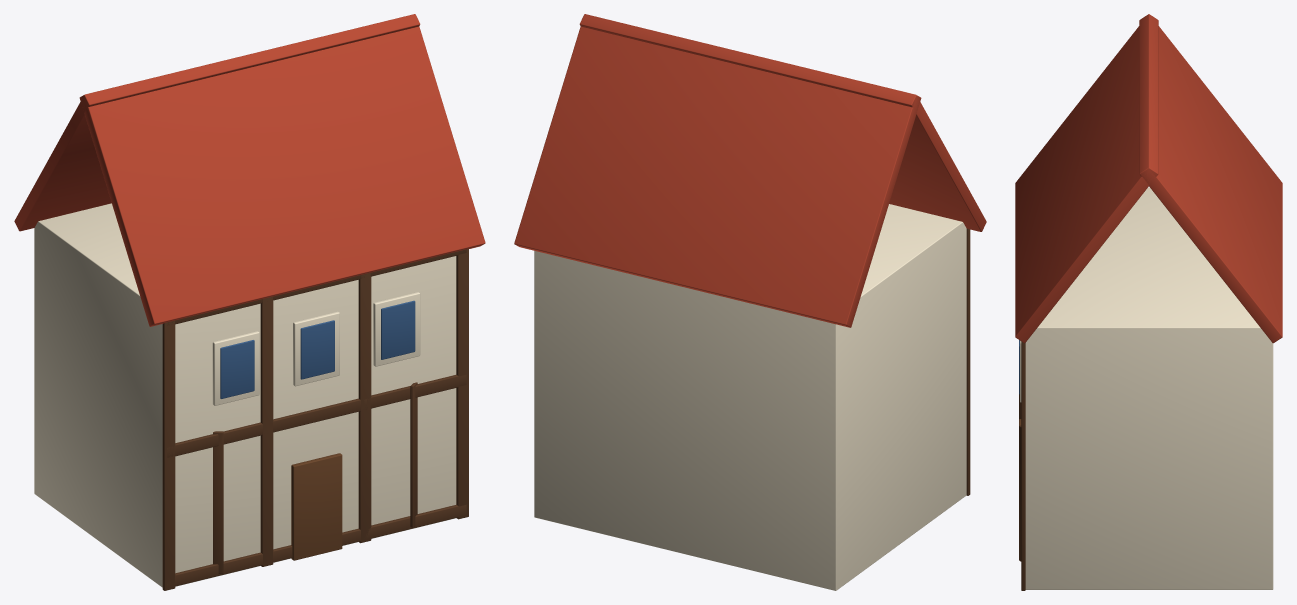
Rendered from rg_europa_1.glb.
The picture shows the model from 3 angles, left to right: view 1: azimuth 30°, elevation 25°; view 2: azimuth 150°, elevation 25°; view 3: azimuth 270°, elevation 25°; orthographic projection. The views are drawn at different scales.
Parts seen in each view (by area): view 1: rg_europa_1; view 2: rg_europa_1; view 3: rg_europa_1.
Part boxes in pixels (left/top/right/bottom): rg_europa_1: left=14, top=14, right=485, bottom=590; rg_europa_1: left=514, top=14, right=986, bottom=590; rg_europa_1: left=1015, top=14, right=1282, bottom=590.
Size of the model in its own units: 8.8 by 11.44 by 6.46.
